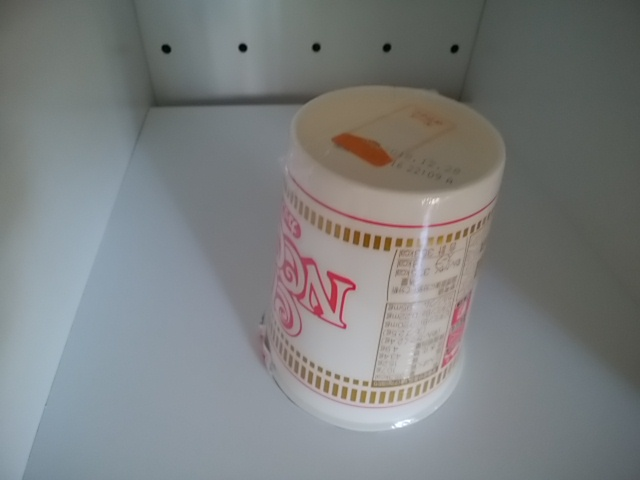cup-ramen: (254, 82, 508, 434)
